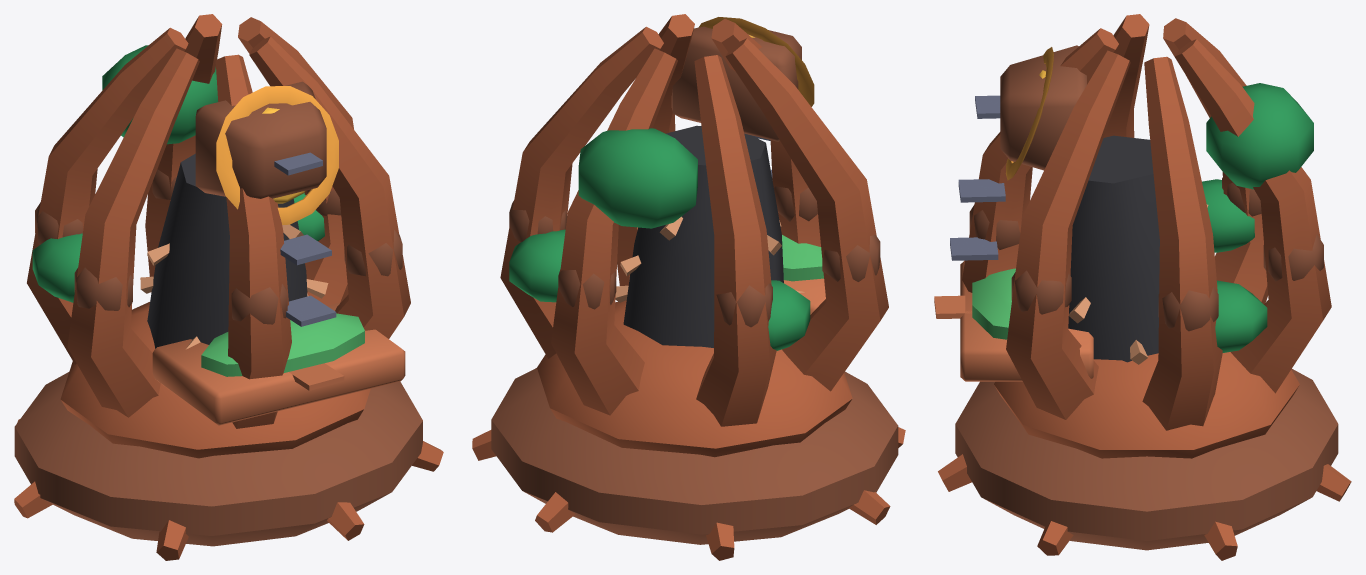
The model's file is root_lurker.glb.
3 renders of one model, left to right at view 1: azimuth 30°, elevation 25°; view 2: azimuth 150°, elevation 25°; view 3: azimuth 270°, elevation 25°, orthographic.
Parts seen in each view (by area): view 1: RootLurker; view 2: RootLurker; view 3: RootLurker.
Boxes of the visible parts, left/top/right/bottom form: RootLurker: left=14, top=14, right=443, bottom=560; RootLurker: left=472, top=14, right=905, bottom=560; RootLurker: left=934, top=14, right=1351, bottom=560.
Size of the model in its own units: 2.72 by 3.2 by 2.58.
1 material, 1 textured.
